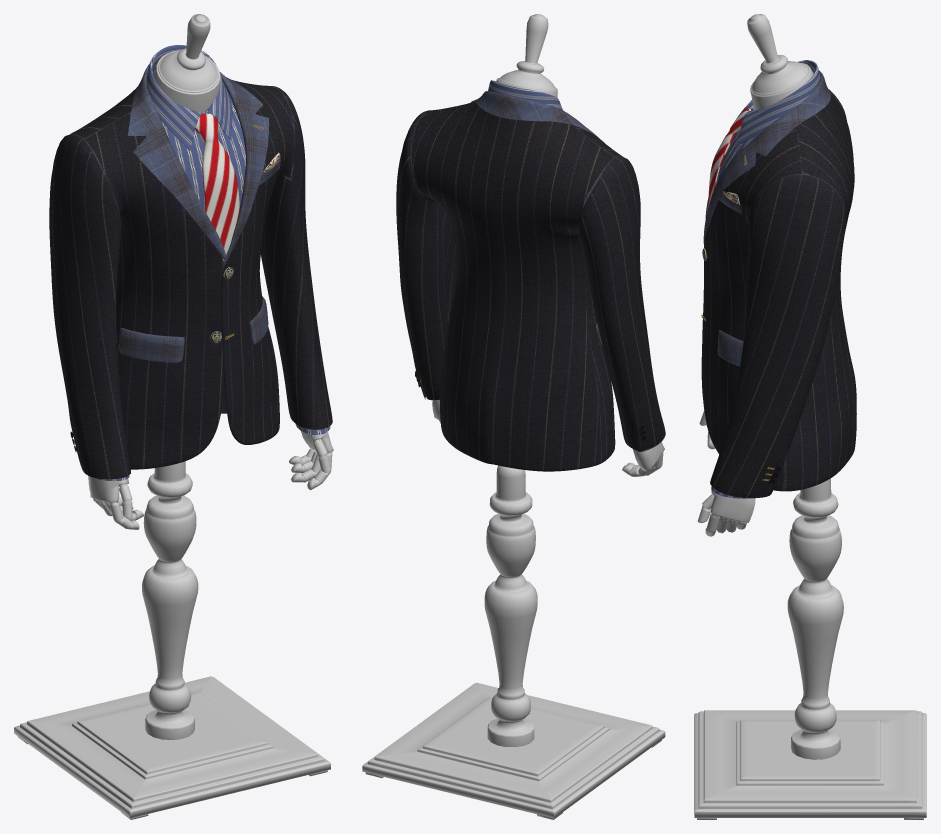
Rendered from suit201.gltf.
3 renders of one model, left to right at view 1: azimuth 30°, elevation 25°; view 2: azimuth 150°, elevation 25°; view 3: azimuth 270°, elevation 25°, orthographic. The views are drawn at different scales.
Visible parts, largest first — view 1: waitao_low_14, Suit_yijia_2, lingzi_low_20, xizhuang13_Retopo_26, lingzi002_42, chenshan_low_16, koudai_right_low_30; view 2: waitao_low_14, Suit_yijia_2, lingzi_low_20, lingzi002_42; view 3: waitao_low_14, Suit_yijia_2, lingzi_low_20, lingzi002_42, xizhuang13_Retopo_26, koudai_left_low_28, chenshan_low_16.
Boxes of the visible parts, x1=… form: waitao_low_14: x1=49, y1=80, x2=332, y2=479; Suit_yijia_2: x1=14, y1=14, x2=333, y2=819; lingzi_low_20: x1=127, y1=64, x2=269, y2=273; xizhuang13_Retopo_26: x1=195, y1=113, x2=239, y2=261; lingzi002_42: x1=146, y1=45, x2=232, y2=150; chenshan_low_16: x1=96, y1=95, x2=330, y2=481; koudai_right_low_30: x1=119, y1=328, x2=184, y2=362; waitao_low_14: x1=396, y1=101, x2=665, y2=471; Suit_yijia_2: x1=362, y1=14, x2=665, y2=819; lingzi_low_20: x1=470, y1=91, x2=604, y2=142; lingzi002_42: x1=488, y1=80, x2=563, y2=110; waitao_low_14: x1=701, y1=89, x2=856, y2=498; Suit_yijia_2: x1=694, y1=14, x2=926, y2=819; lingzi_low_20: x1=703, y1=70, x2=830, y2=245; lingzi002_42: x1=736, y1=60, x2=820, y2=146; xizhuang13_Retopo_26: x1=708, y1=108, x2=751, y2=208; koudai_left_low_28: x1=717, y1=330, x2=743, y2=366; chenshan_low_16: x1=711, y1=110, x2=759, y2=498.
Bounding box in the file's own units: 0.8431 × 2.5 × 0.694.
